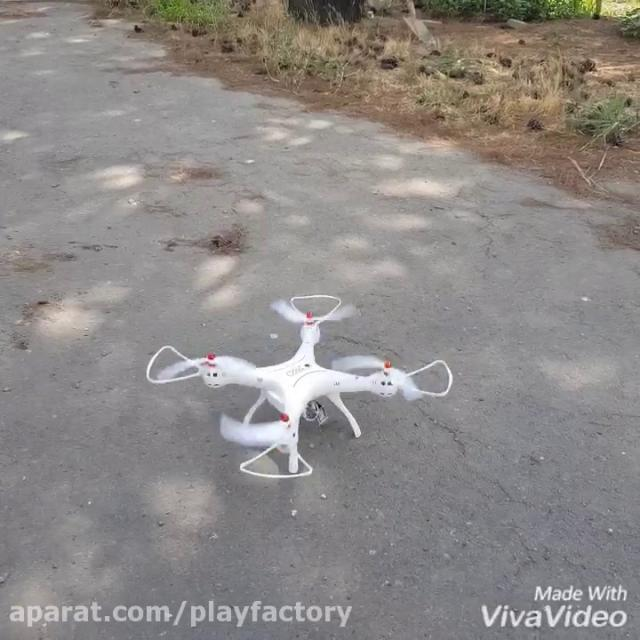drone: (139, 286, 457, 482)
